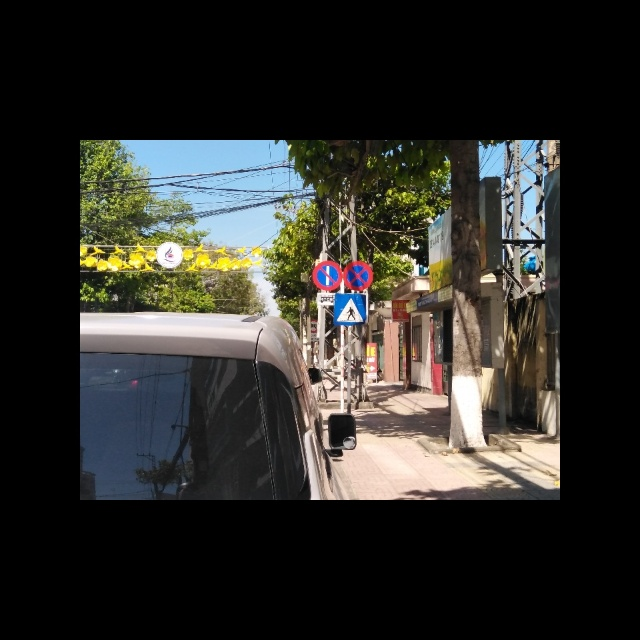Cấm dừng xe và đỗ xe: (342, 261, 374, 291)
Cấm đỗ xe ngày lẻ: (311, 261, 343, 291)
Đường dành cho người đi bộ: (335, 293, 367, 324)
